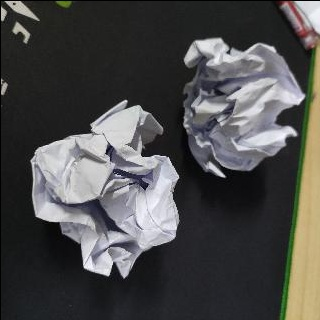8/可回收垃圾/纸: (30, 99, 180, 278), (182, 37, 307, 179)
